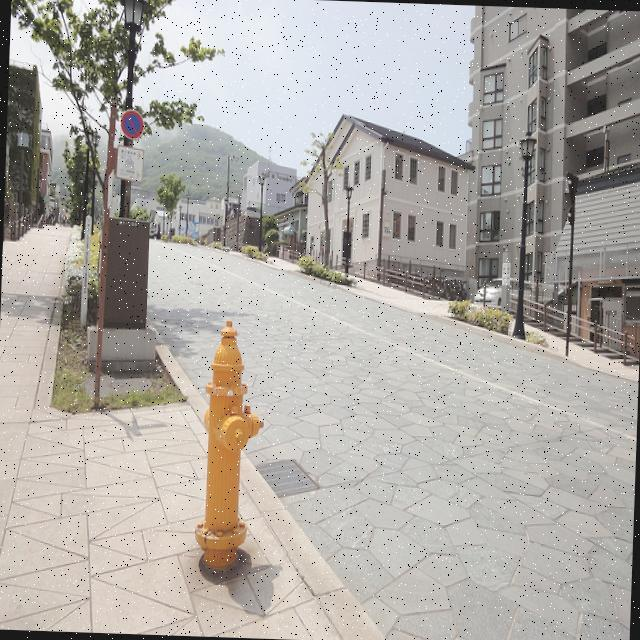fire_hydrant: (191, 320, 275, 574)
